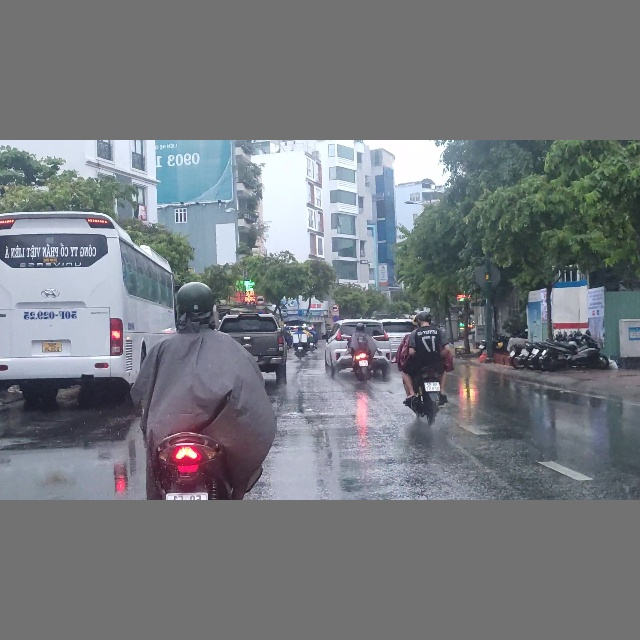P.106a*Xe tai: (255, 295, 265, 305), (332, 304, 339, 311)
P.131a: (332, 315, 339, 322)
